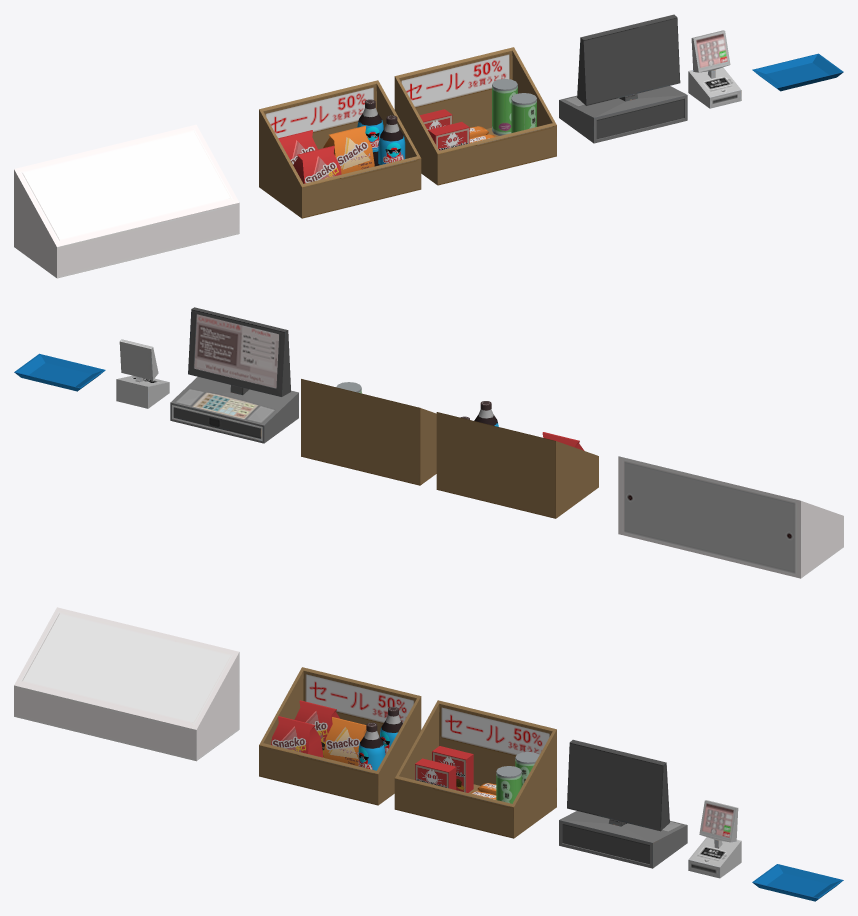
Rendered from Cashier_Item.fbx.
The picture shows the model from 3 angles, top to bottom: view 1: azimuth 30°, elevation 25°; view 2: azimuth 150°, elevation 25°; view 3: azimuth 330°, elevation 25°; orthographic projection.
Parts seen in each view (by area): view 1: Cake_Shelf, Sale_Shelf_Snack, Sale_Shelf, Cash_01, Cash_02, Money_Plate; view 2: Cake_Shelf, Cash_01, Sale_Shelf_Snack, Sale_Shelf, Cash_02, Money_Plate; view 3: Cake_Shelf, Sale_Shelf, Sale_Shelf_Snack, Cash_01, Cash_02, Money_Plate.
Boxes of the visible parts, bbox=[...] form: Cake_Shelf: bbox=[14, 124, 239, 278]; Sale_Shelf_Snack: bbox=[259, 80, 421, 218]; Sale_Shelf: bbox=[394, 47, 556, 185]; Cash_01: bbox=[559, 14, 687, 143]; Cash_02: bbox=[688, 30, 741, 108]; Money_Plate: bbox=[752, 53, 843, 91]; Cake_Shelf: bbox=[618, 456, 843, 578]; Cash_01: bbox=[170, 307, 298, 443]; Sale_Shelf_Snack: bbox=[436, 401, 598, 518]; Sale_Shelf: bbox=[301, 379, 436, 485]; Cash_02: bbox=[116, 339, 169, 408]; Money_Plate: bbox=[14, 353, 105, 391]; Cake_Shelf: bbox=[14, 607, 239, 761]; Sale_Shelf: bbox=[394, 700, 556, 838]; Sale_Shelf_Snack: bbox=[259, 667, 421, 805]; Cash_01: bbox=[559, 739, 687, 868]; Cash_02: bbox=[688, 800, 741, 878]; Money_Plate: bbox=[752, 864, 843, 901].
Bounding box in the file's own units: 42.73 × 4.93 × 4.
